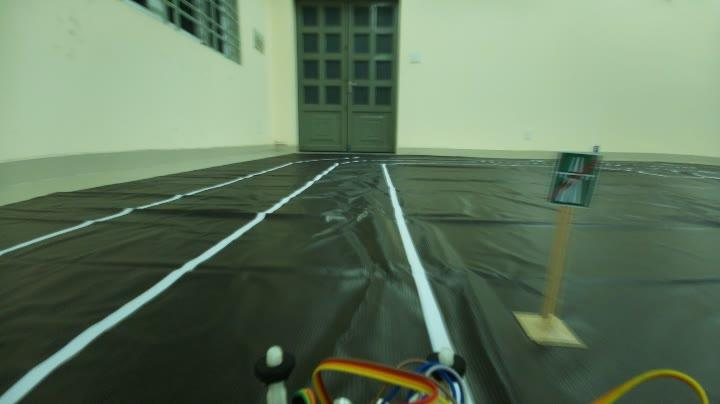highway_exit: (544, 147, 600, 209)
